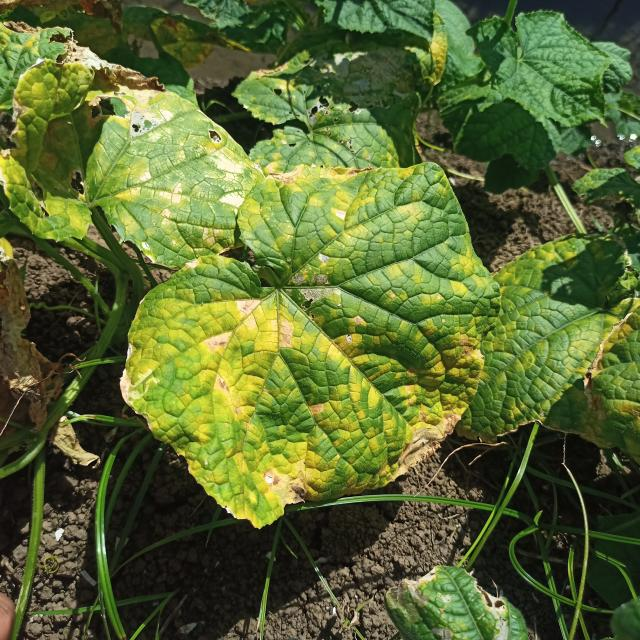disease_cucumber: (125, 168, 490, 528), (120, 96, 252, 264)
